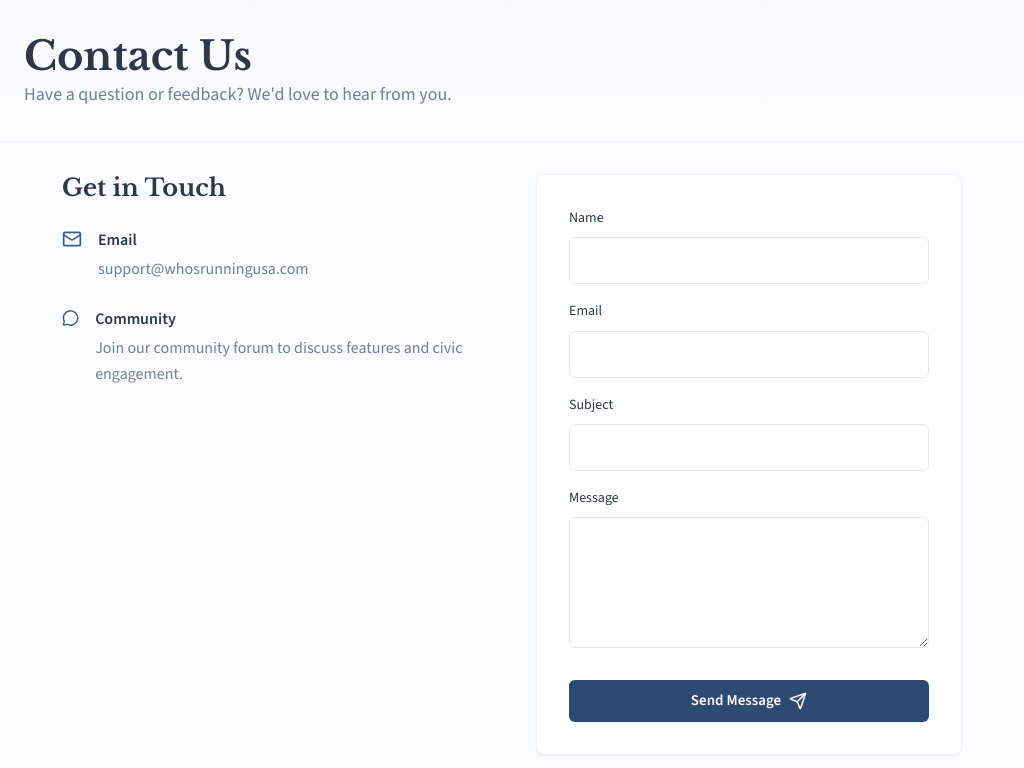
Scenario: ContactPage › shows success message after submission
inputs: [name, email, subject, message]
Type "John" into the field labelled "Name".
click(749, 261); type("John")  # box [569,237,929,284]
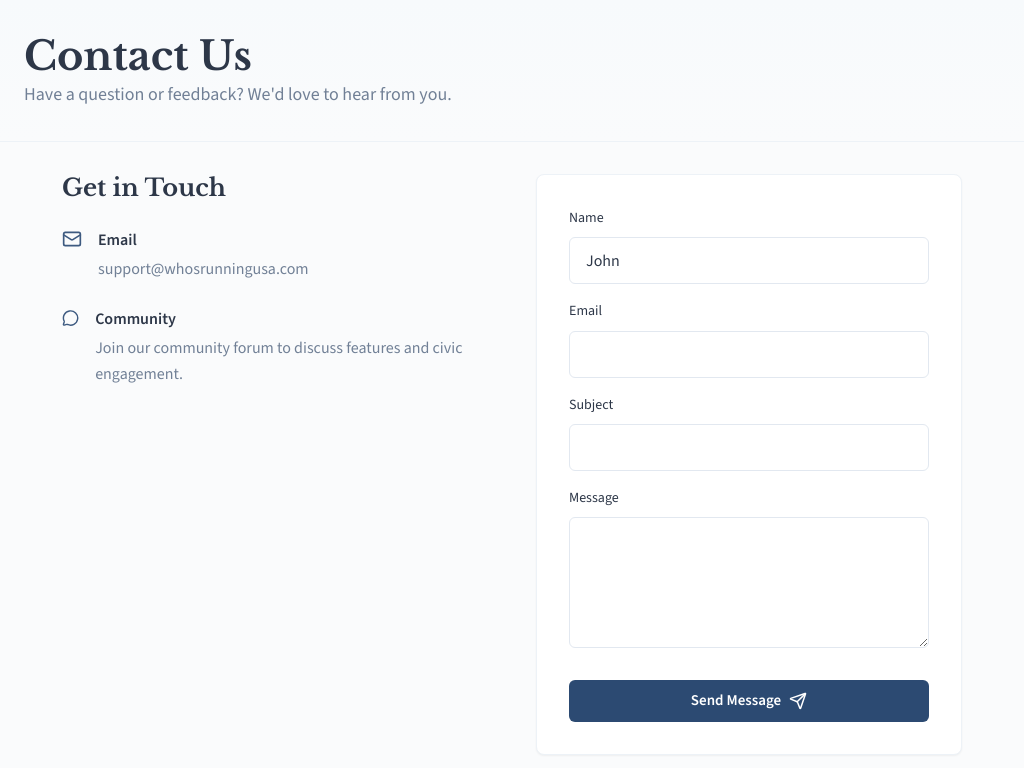
Type "john@test.com" into the field labelled "Email".
click(749, 354); type("john@test.com")  # box [569,331,929,378]
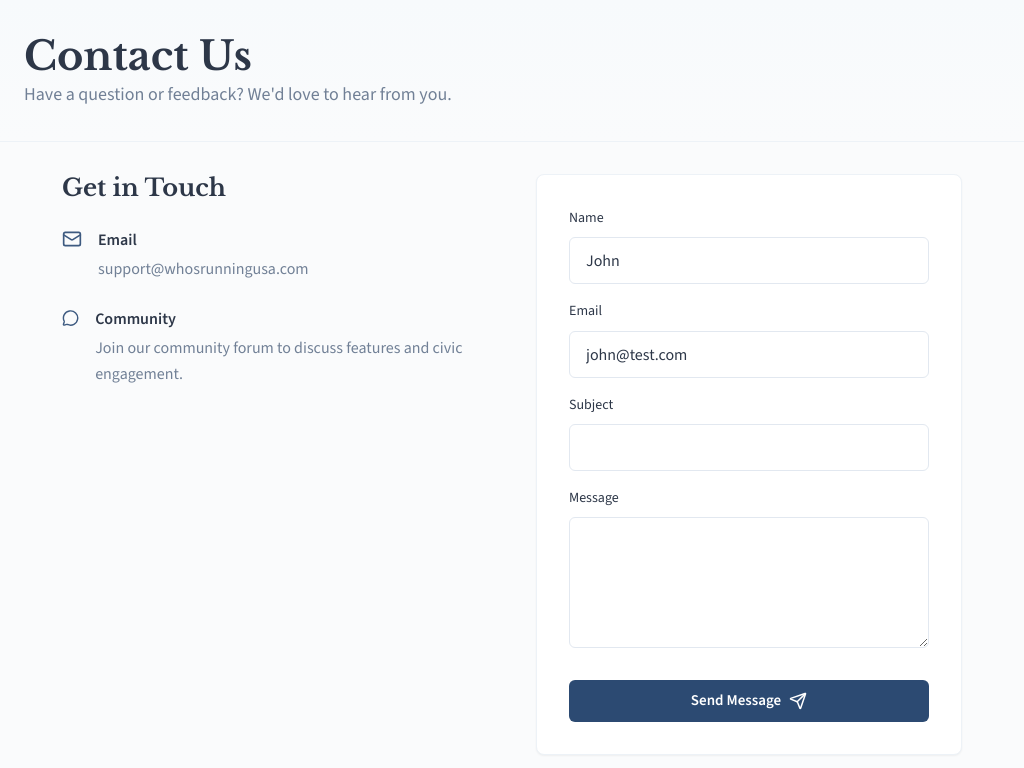
Type "Test subject" into the field labelled "Subject".
click(749, 448); type("Test subject")  # box [569,424,929,471]
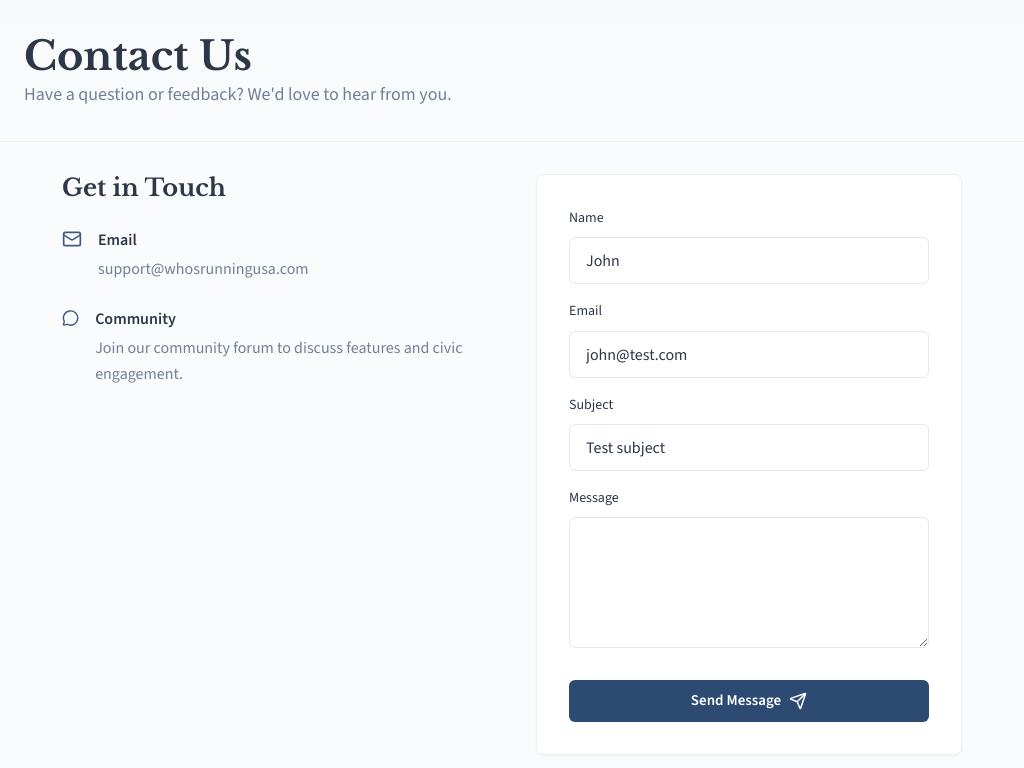
Type "Hello there" into the text box.
click(749, 583); type("Hello there")  # box [569,517,929,648]
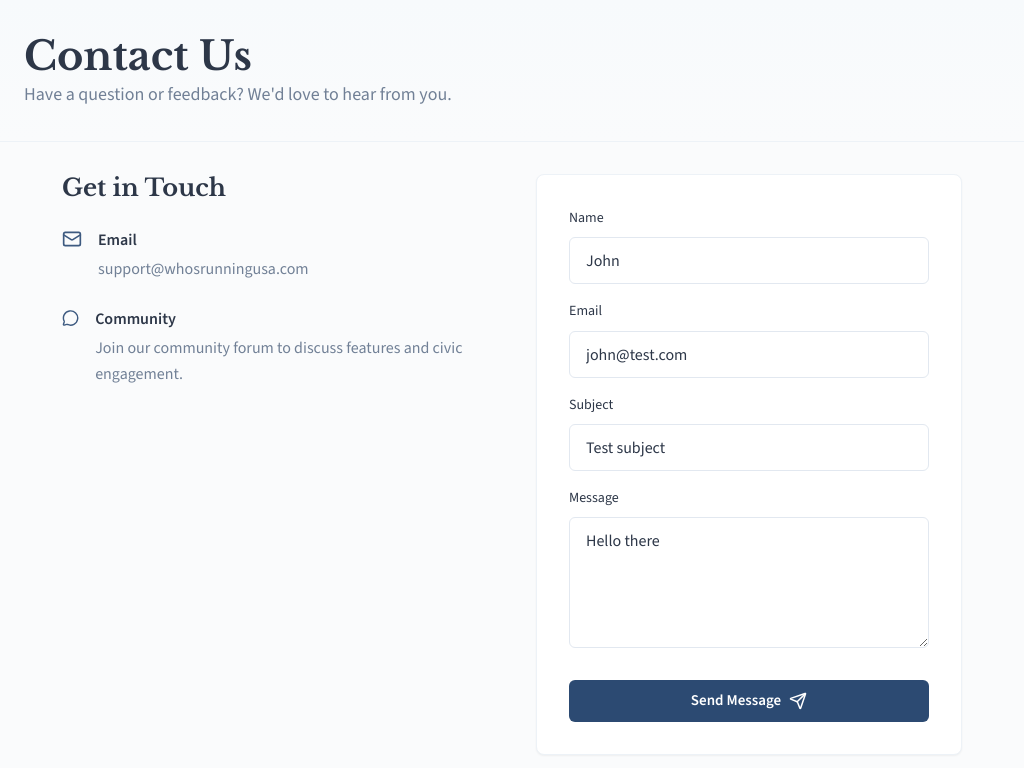
Click the button "Send Message".
click(749, 701)  # box [569,680,929,722]
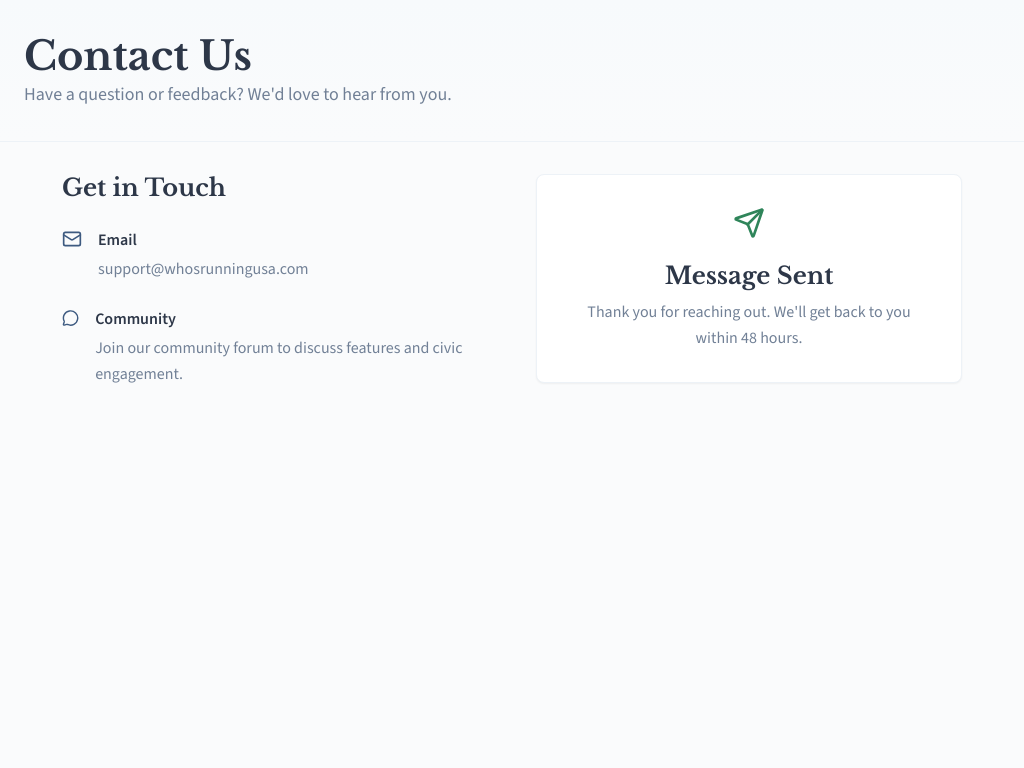
Now the heading "Message Sent" is shown, box [665,261,833,290]
Now the text "Thank you for reaching out" is shown, box [587,301,911,348]
